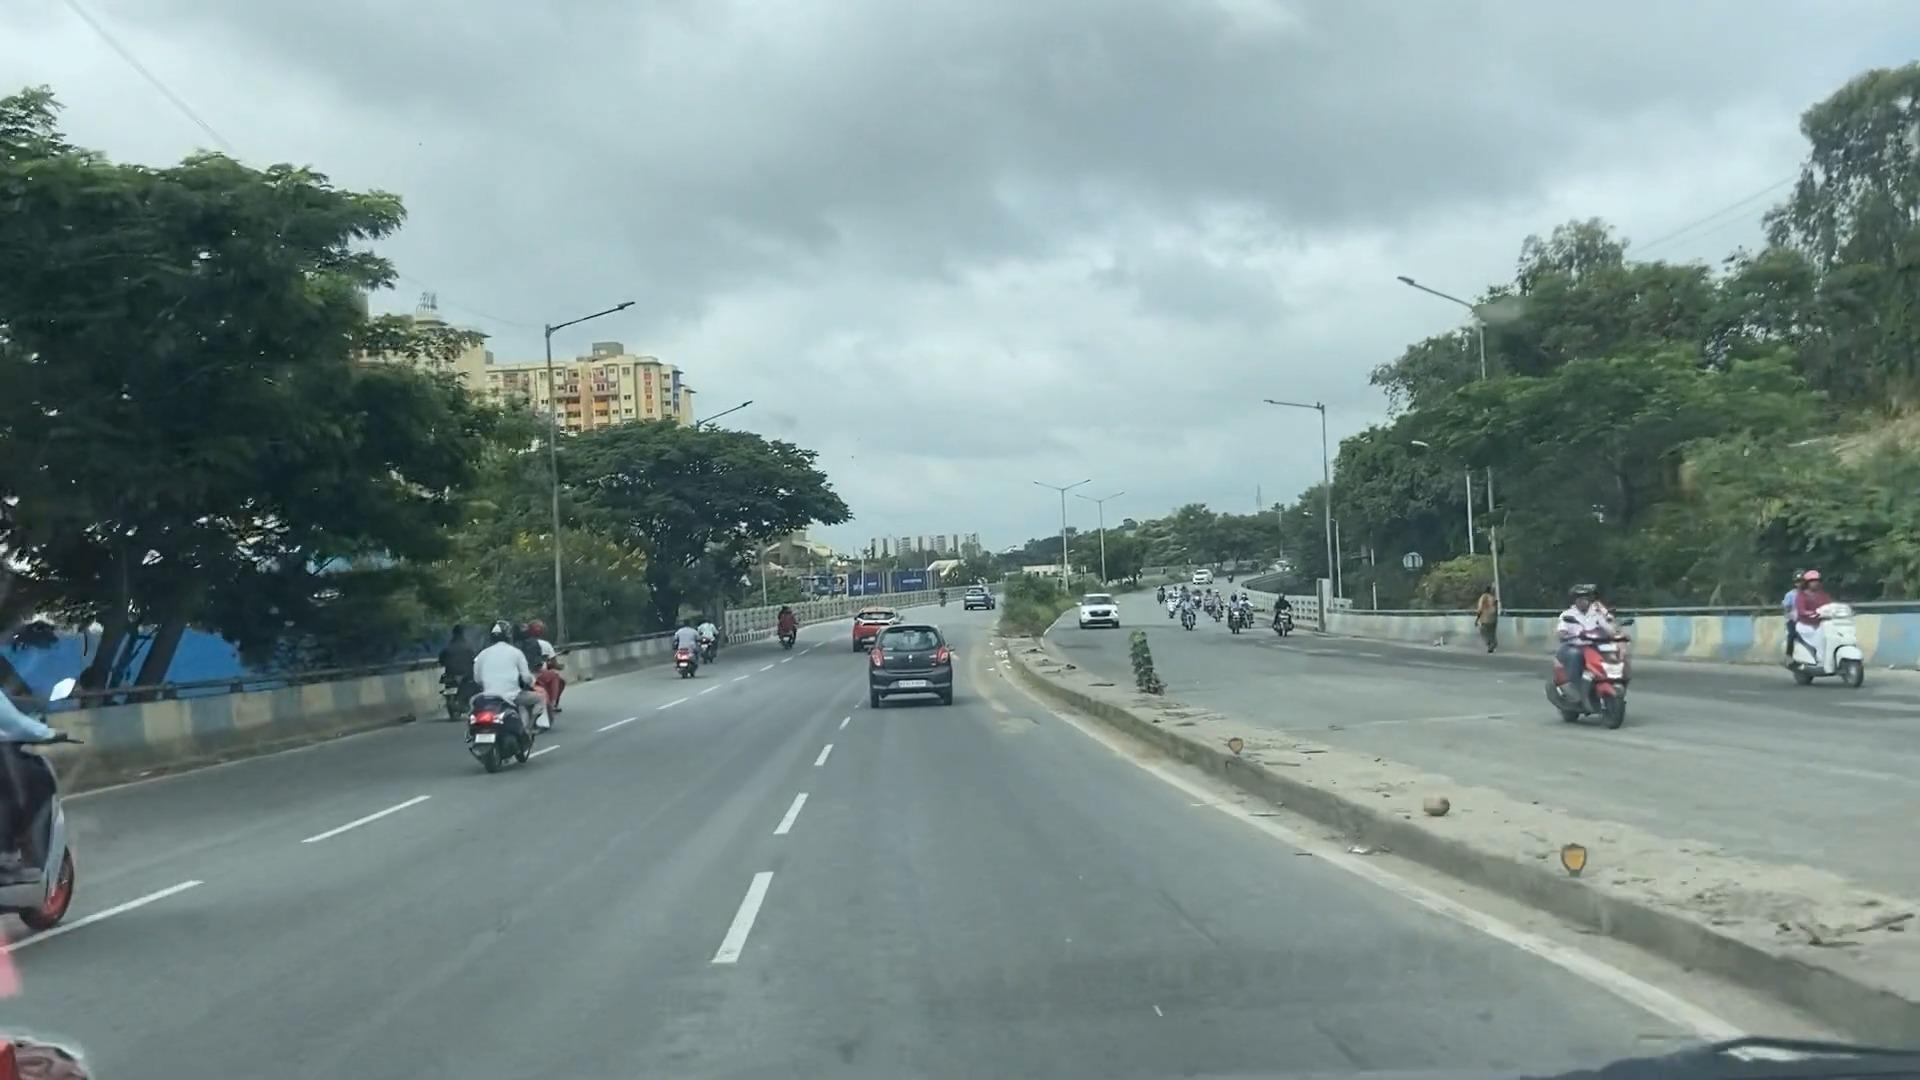LMV: (473, 630, 525, 756), (876, 624, 945, 695)
RoadDamages: (984, 680, 1034, 737)
